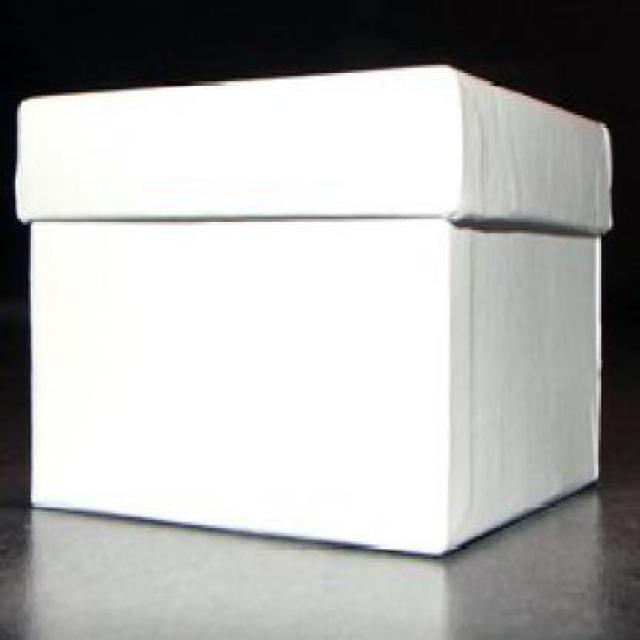box: (2, 57, 627, 570)
